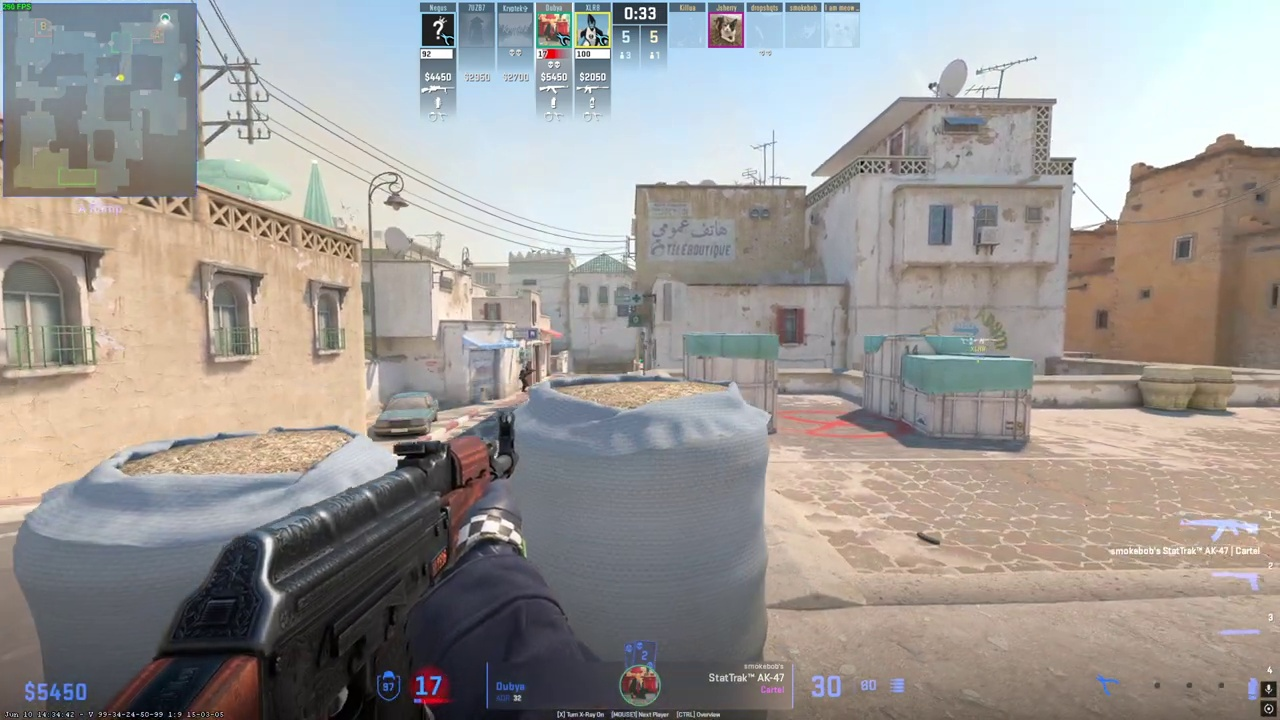CT: (519, 366, 532, 392)
